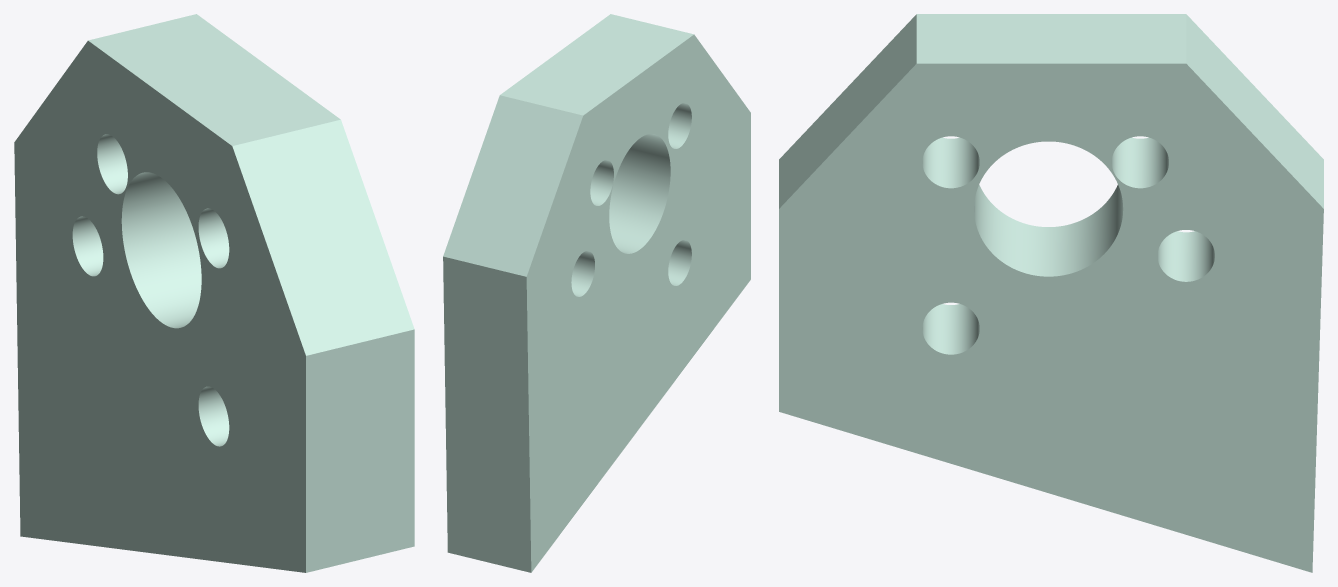
3 views of the same model, side by side, from view 1: azimuth 30°, elevation 25°; view 2: azimuth 150°, elevation 25°; view 3: azimuth 270°, elevation 25° (orthographic). The views are drawn at different scales.
Visible parts, largest first — view 1: Renderer Node; view 2: Renderer Node; view 3: Renderer Node.
Part boxes in pixels (x1,y1,x2,y2): Renderer Node: (14, 14, 414, 572); Renderer Node: (443, 14, 750, 572); Renderer Node: (779, 14, 1323, 572).
Bounding box in the file's own units: 0.1563 × 0.7495 × 0.7266.
